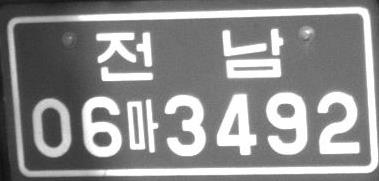0: (31, 97, 71, 158)
2: (316, 90, 359, 154)
3: (163, 93, 207, 157)
4: (215, 92, 257, 155)
6: (81, 95, 123, 157)
9: (264, 90, 308, 155)
마: (125, 98, 158, 153)
전남_D: (96, 28, 283, 81)
